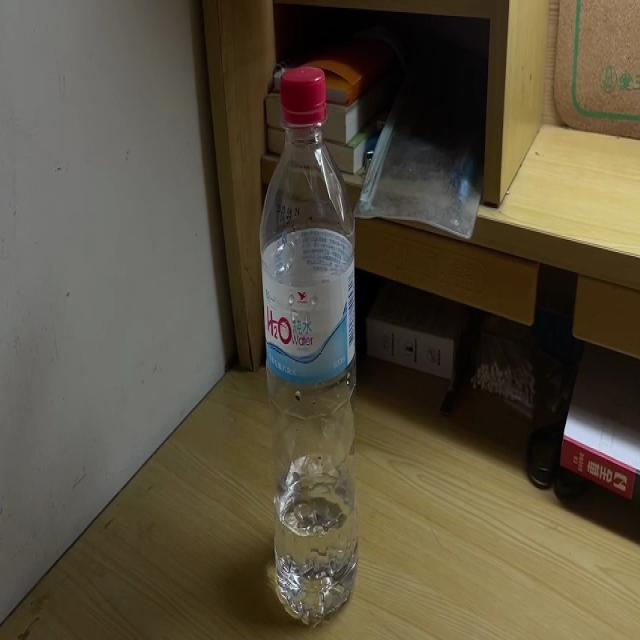Water: (258, 63, 361, 624)
